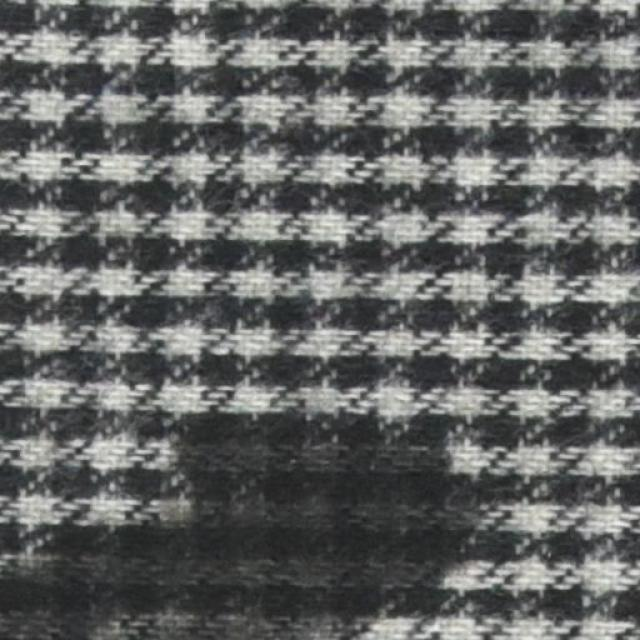Stain: (0, 418, 496, 640)
